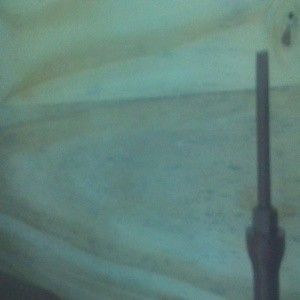obeng: (244, 49, 287, 300)
